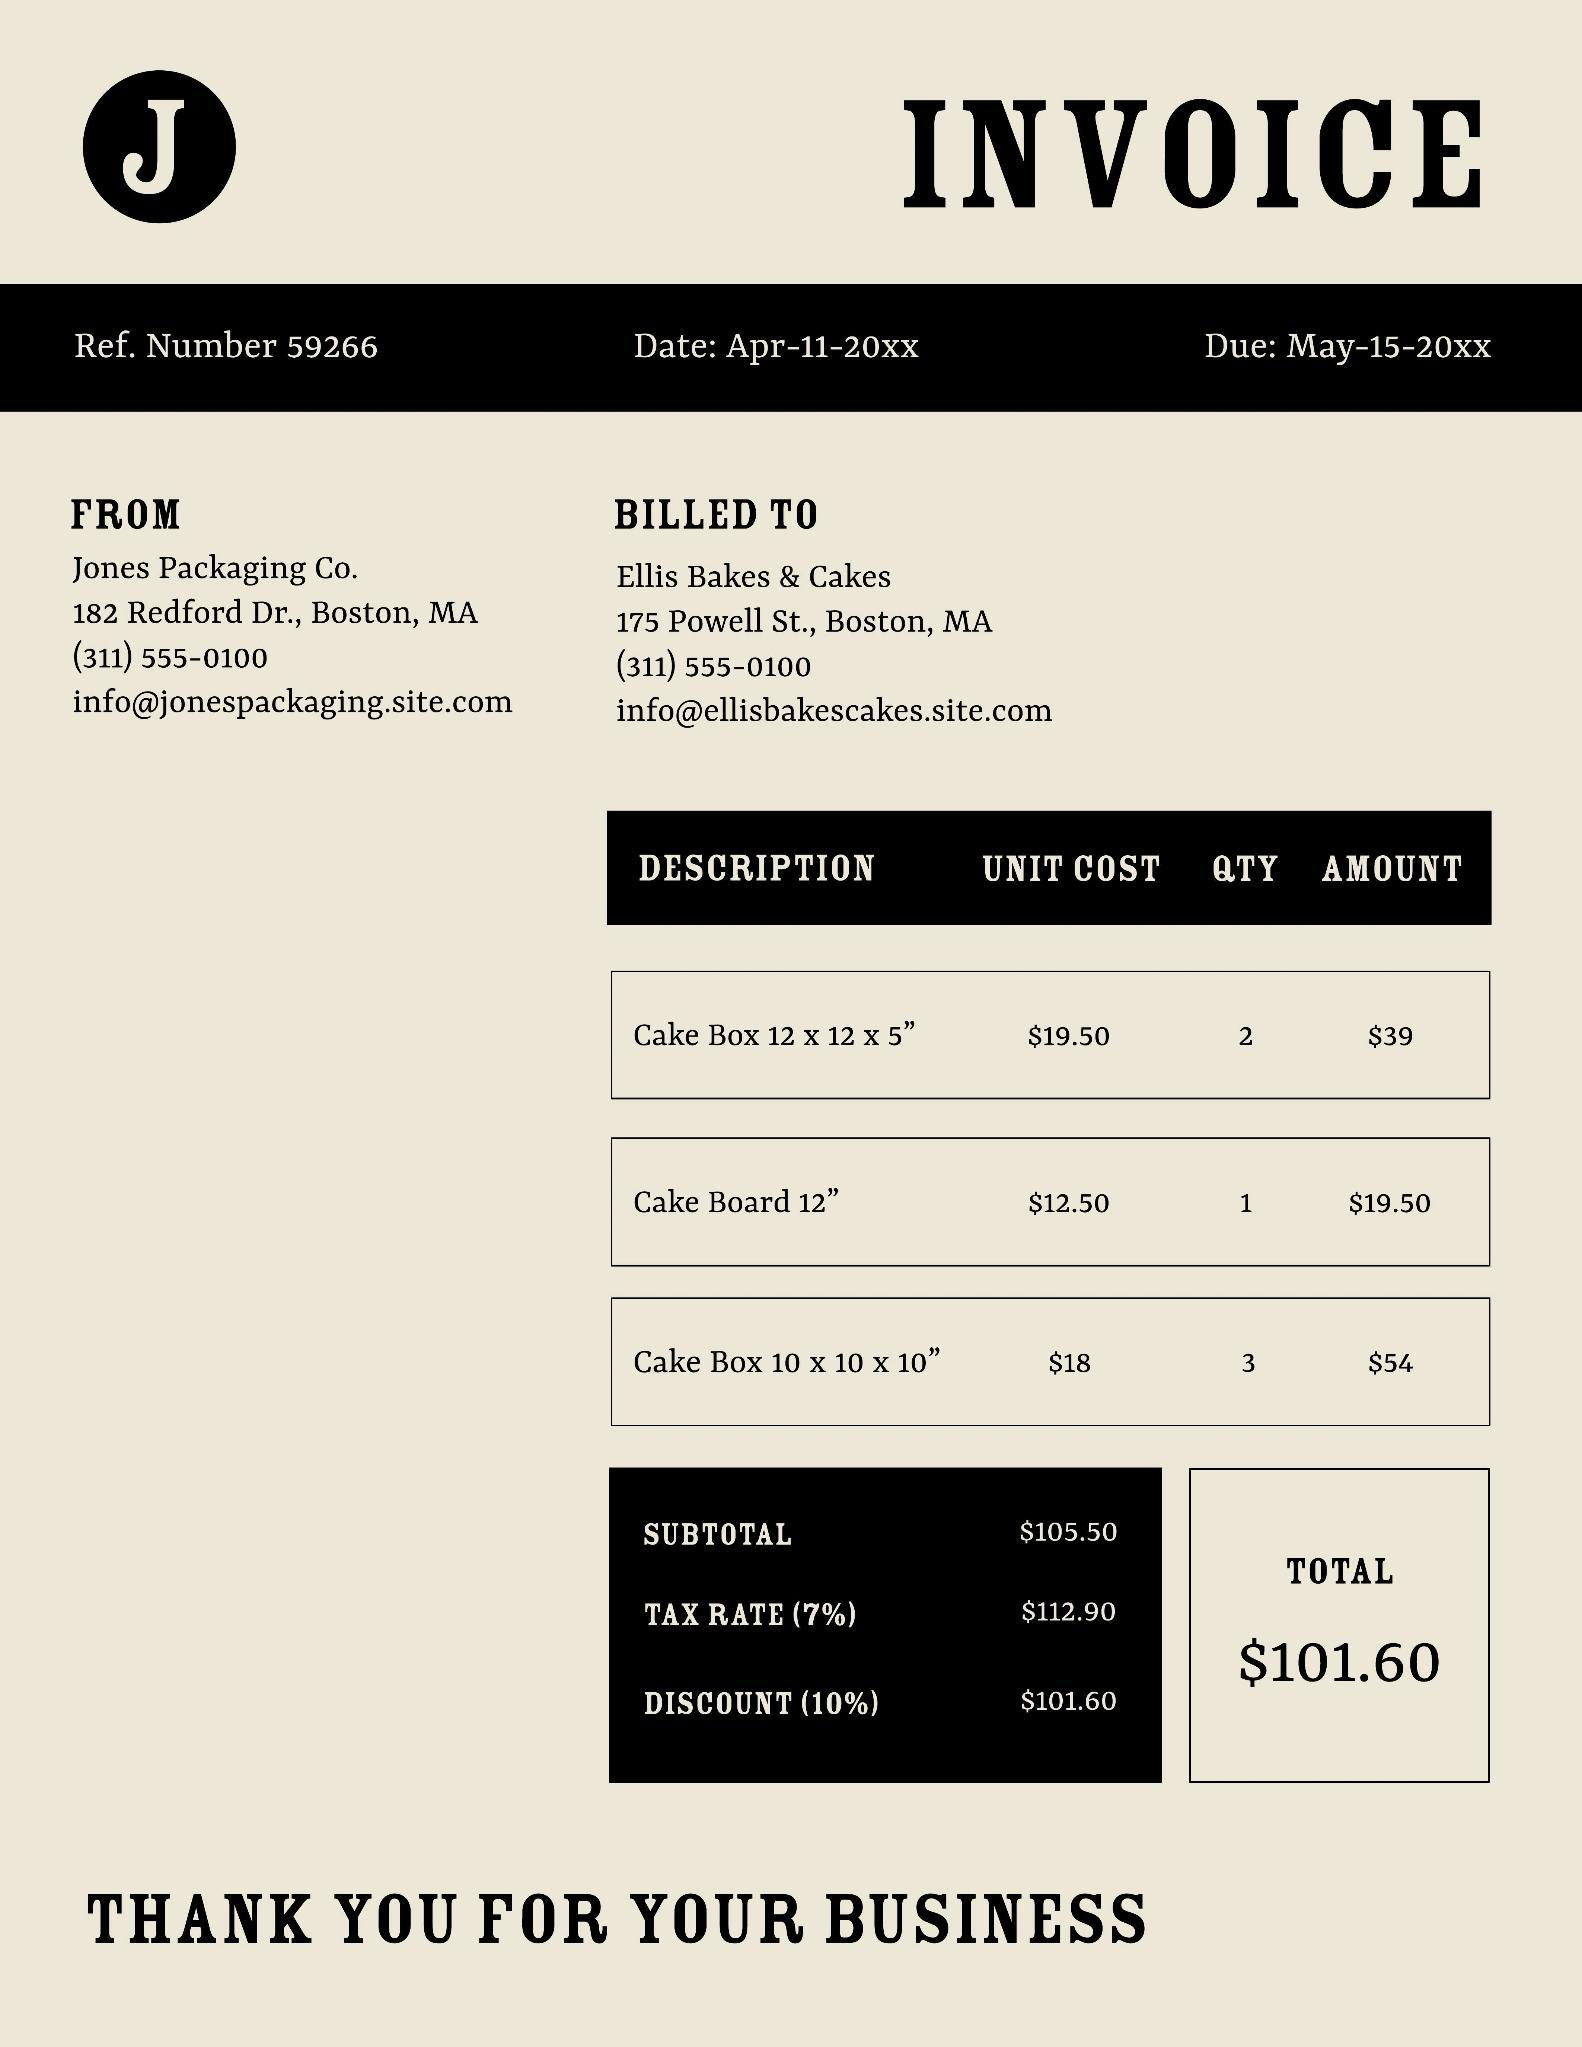ROI: (578, 784, 1507, 1439), (563, 1465, 1172, 1803), (23, 452, 528, 756), (76, 1871, 1168, 2007), (575, 459, 1102, 739), (877, 58, 1521, 241), (1193, 1474, 1501, 1765), (28, 274, 467, 407), (593, 281, 960, 419), (1173, 289, 1540, 420), (52, 52, 268, 246), (568, 1460, 573, 1484)
